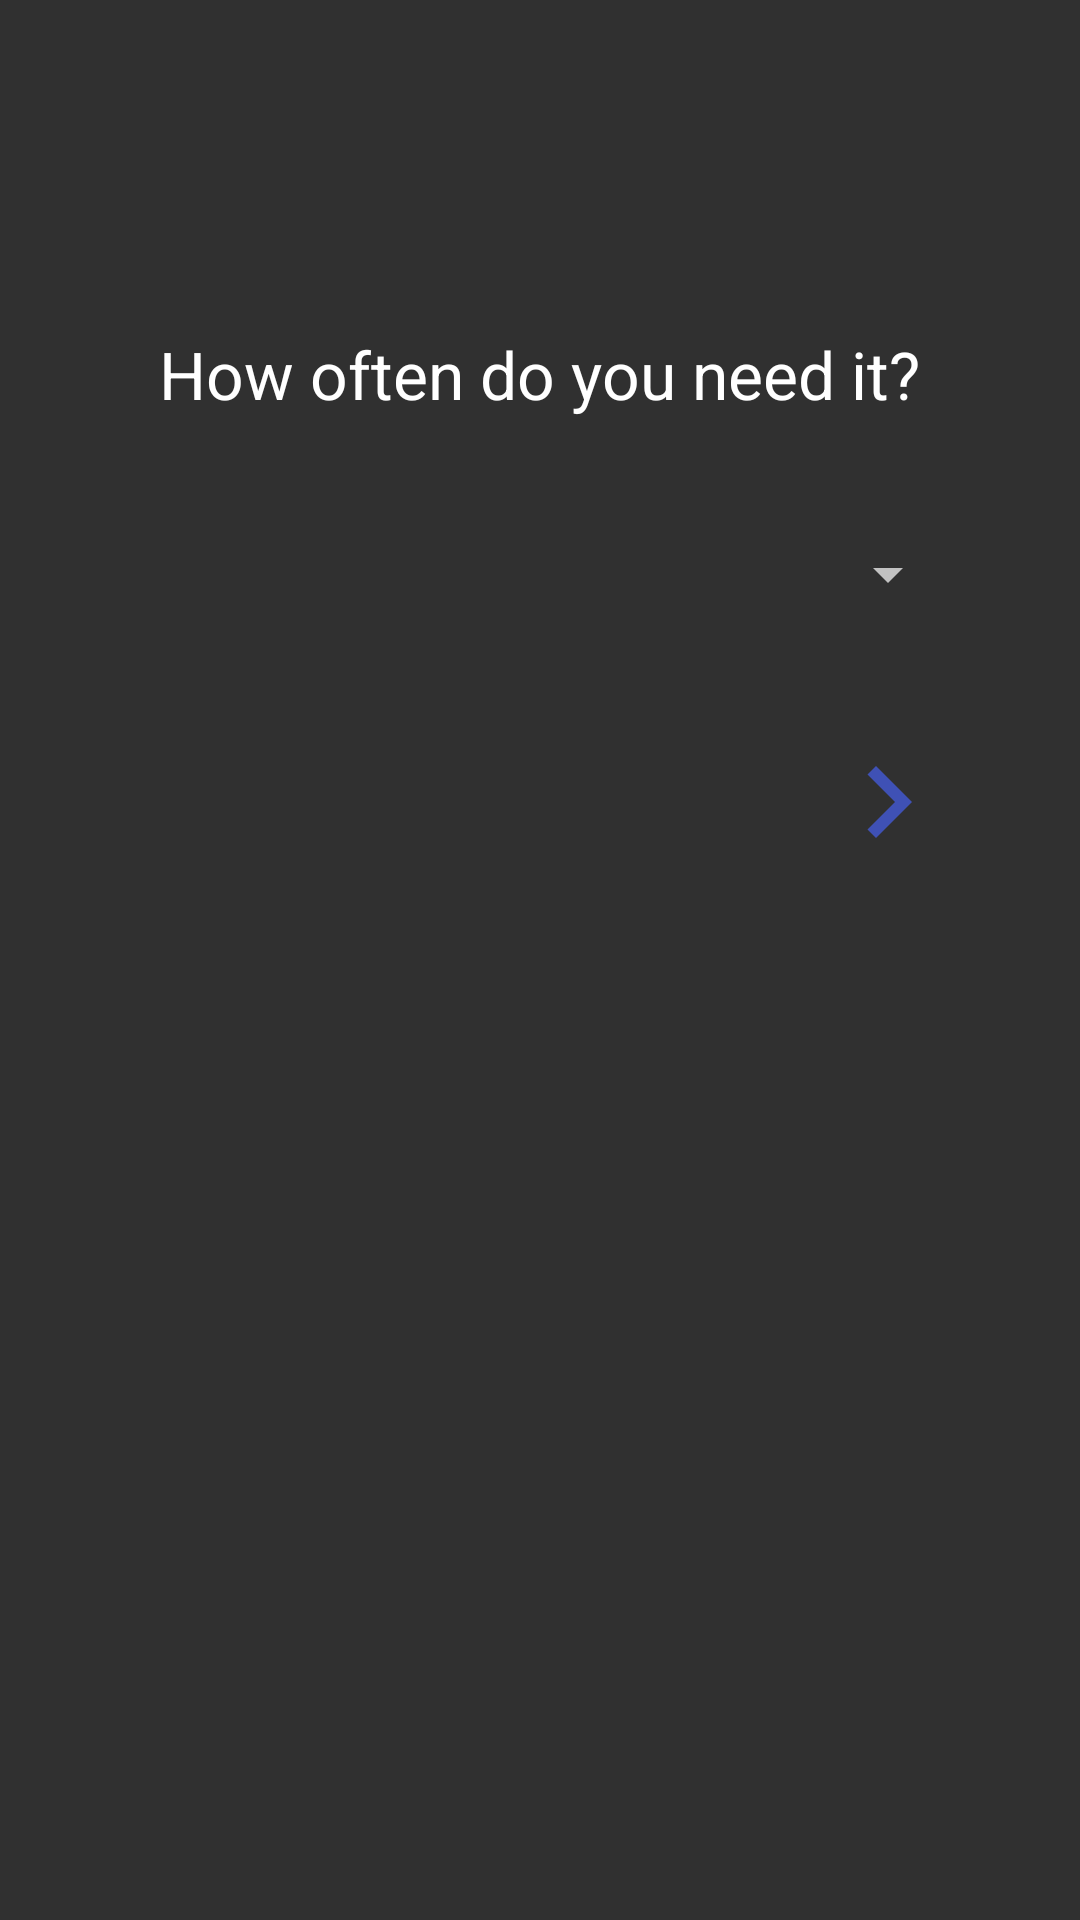

Icon bounding boxes for this 1080 x 1920 phone screenshot, format (x1, y1, x2, y2):
Next stage: (867, 766, 912, 838)
